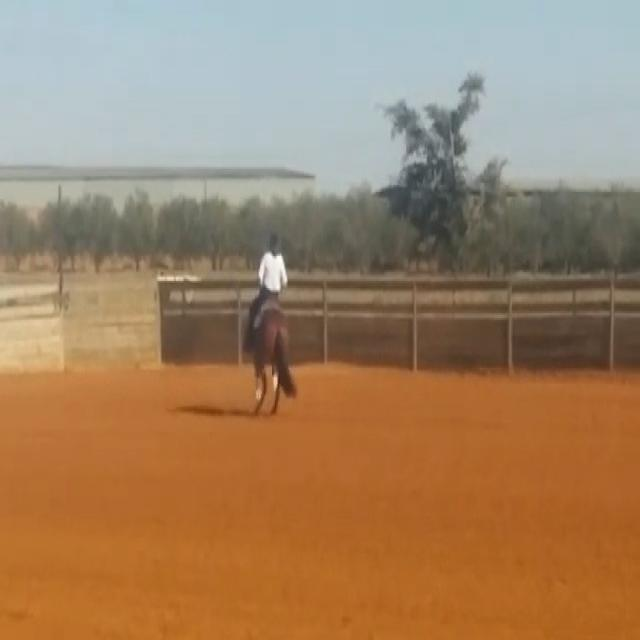horse: (241, 293, 296, 416)
